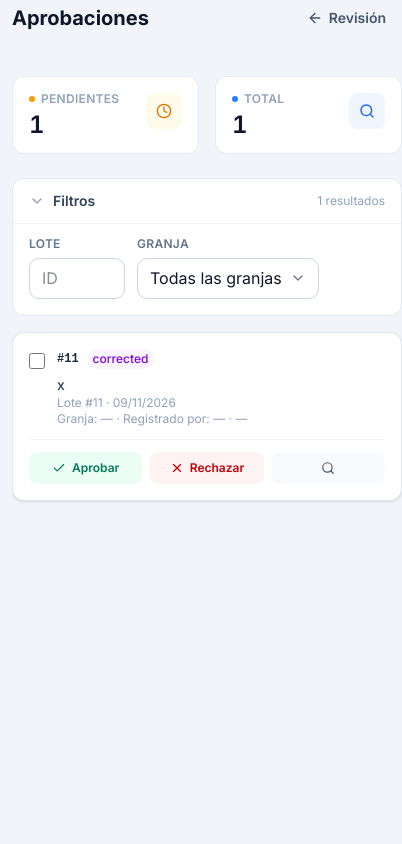
R-208 · botones de lote por approvals:* › control: con approvals:approve/reject ⇒ botones de lote visibles
The width and height of the screenshot is (402, 844).
Expected: the text "#11" is shown, [57,351,79,367]
Click the checkbox at (37, 361), box [29,353,45,369]
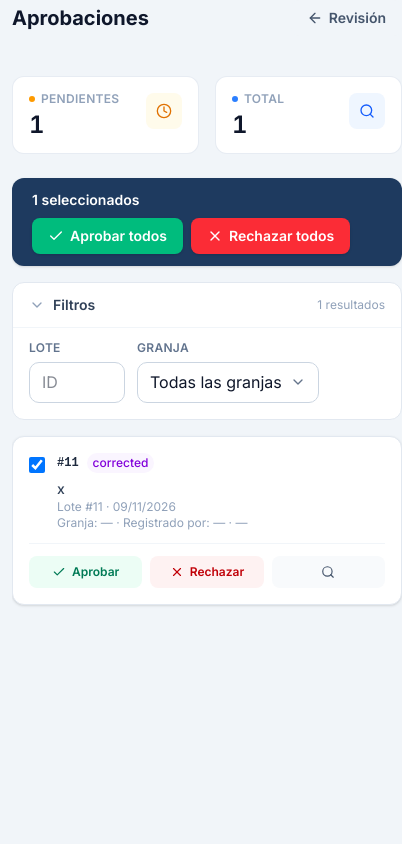
Now the button "Aprobar todos" is shown, box [32,218,183,254]
Now the button "Rechazar todos" is shown, box [191,218,350,254]
